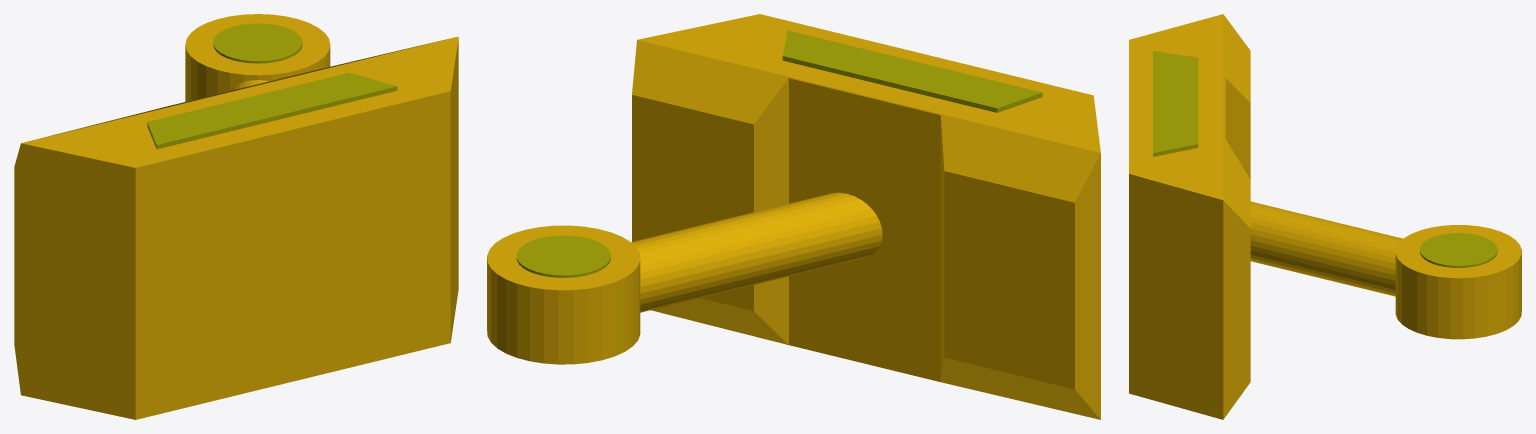
The model's file is lever.fbx.
3 renders of one model, left to right at view 1: azimuth 30°, elevation 25°; view 2: azimuth 150°, elevation 25°; view 3: azimuth 270°, elevation 25°, orthographic. The views are drawn at different scales.
Parts seen in each view (by area): view 1: Base, Base Color, lever ball, Level Ball Color; view 2: Base, lever stick, lever ball, Base Color, Level Ball Color; view 3: Base, lever ball, lever stick, Base Color, Level Ball Color.
Boxes of the visible parts, <box> form: Base: <box>14,36,458,419</box>; Base Color: <box>147,72,397,149</box>; lever ball: <box>185,14,330,101</box>; Level Ball Color: <box>213,23,302,63</box>; Base: <box>632,14,1100,419</box>; lever stick: <box>631,192,882,312</box>; lever ball: <box>487,225,640,364</box>; Base Color: <box>782,30,1042,112</box>; Level Ball Color: <box>516,235,610,277</box>; Base: <box>1129,14,1250,419</box>; lever ball: <box>1395,225,1521,339</box>; lever stick: <box>1250,201,1402,296</box>; Base Color: <box>1153,51,1198,156</box>; Level Ball Color: <box>1420,233,1497,267</box>.
Bounding box in the file's own units: 364 × 207 × 324.
